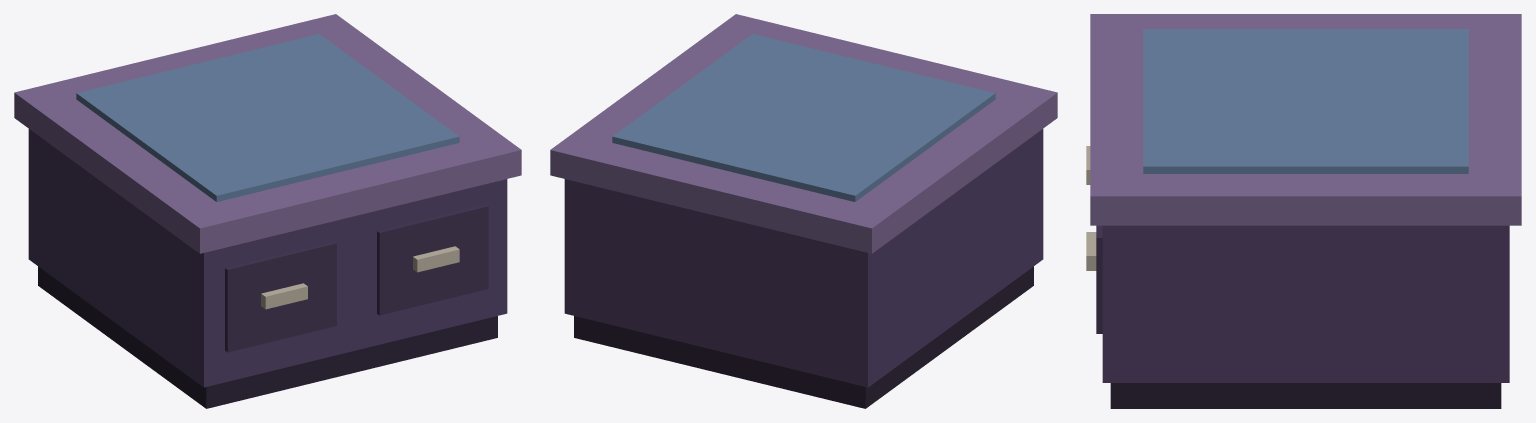
Rendered from k_mire_wash.glb.
3 views of the same model, side by side, from view 1: azimuth 30°, elevation 25°; view 2: azimuth 150°, elevation 25°; view 3: azimuth 270°, elevation 25° (orthographic). The views are drawn at different scales.
Parts seen in each view (by area): view 1: piece; view 2: piece; view 3: piece.
Part boxes in pixels (x1=…): piece: x1=14, y1=14, x2=521, y2=408; piece: x1=550, y1=14, x2=1057, y2=408; piece: x1=1086, y1=14, x2=1521, y2=408.
Bounding box in the file's own units: 1.06 × 0.62 × 1.07.
